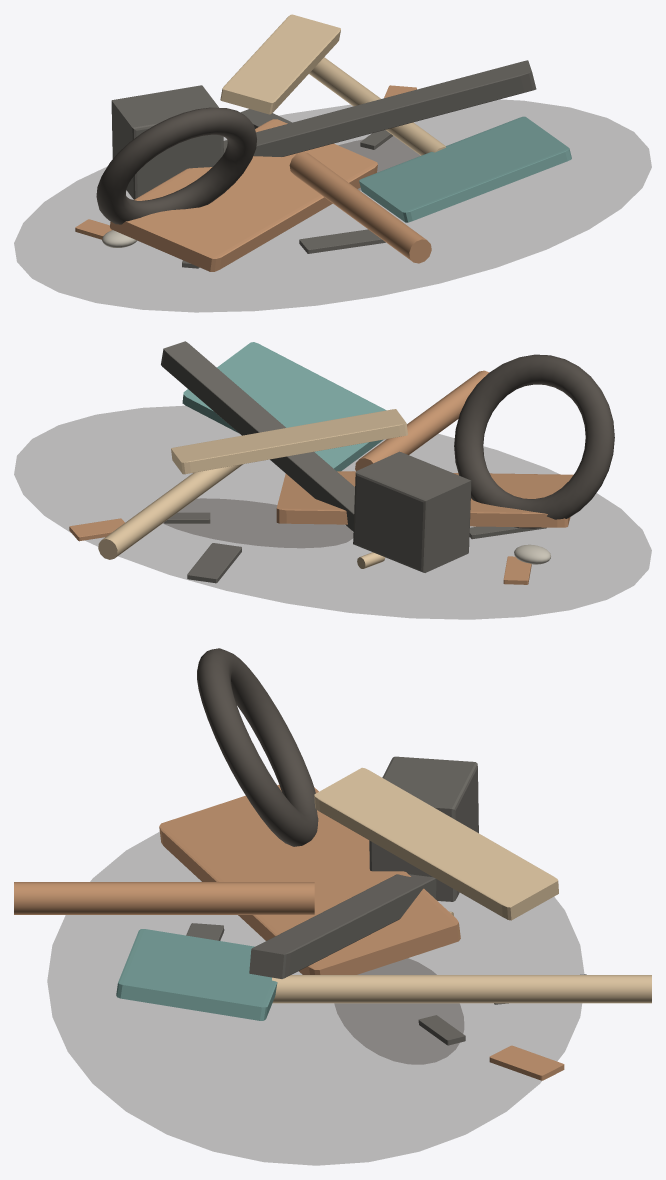
File: scrap_heap.glb
The picture shows the model from 3 angles, top to bottom: view 1: azimuth 30°, elevation 25°; view 2: azimuth 150°, elevation 25°; view 3: azimuth 270°, elevation 25°; orthographic projection. The views are drawn at different scales.
Parts seen in each view (by area): view 1: painted_contact_shadow, bent_door_skin, faded_green_panel, half_buried_tire, black_frame_rail, heavy_scrap_block, broken_light_plate, pipe_bundle_b, pipe_bundle_a, loose_scrap_flake_1, irregular_oil_stain_ground_detail, loose_scrap_flake_0; view 2: painted_contact_shadow, half_buried_tire, heavy_scrap_block, faded_green_panel, black_frame_rail, broken_light_plate, bent_door_skin, irregular_oil_stain_ground_detail, pipe_bundle_a, pipe_bundle_b, loose_scrap_flake_7, loose_scrap_flake_4 (+4 smaller); view 3: painted_contact_shadow, bent_door_skin, broken_light_plate, half_buried_tire, pipe_bundle_a, faded_green_panel, pipe_bundle_b, black_frame_rail, irregular_oil_stain_ground_detail, heavy_scrap_block, loose_scrap_flake_4, loose_scrap_flake_5.
Boxes of the visible parts, x1=… form: painted_contact_shadow: x1=14, y1=99, x2=651, y2=312; bent_door_skin: x1=110, y1=119, x2=377, y2=271; faded_green_panel: x1=359, y1=116, x2=571, y2=222; half_buried_tire: x1=96, y1=107, x2=256, y2=224; black_frame_rail: x1=223, y1=60, x2=536, y2=156; heavy_scrap_block: x1=111, y1=85, x2=223, y2=199; broken_light_plate: x1=220, y1=14, x2=340, y2=114; pipe_bundle_b: x1=289, y1=152, x2=431, y2=263; pipe_bundle_a: x1=309, y1=57, x2=445, y2=155; loose_scrap_flake_1: x1=299, y1=229, x2=385, y2=253; irregular_oil_stain_ground_detail: x1=339, y1=136, x2=419, y2=190; loose_scrap_flake_0: x1=75, y1=219, x2=111, y2=239; painted_contact_shadow: x1=14, y1=406, x2=651, y2=619; half_buried_tire: x1=454, y1=354, x2=614, y2=528; heavy_scrap_block: x1=353, y1=451, x2=471, y2=572; faded_green_panel: x1=182, y1=342, x2=386, y2=471; black_frame_rail: x1=161, y1=341, x2=354, y2=531; broken_light_plate: x1=171, y1=409, x2=407, y2=474; bent_door_skin: x1=276, y1=471, x2=573, y2=527; irregular_oil_stain_ground_detail: x1=163, y1=498, x2=352, y2=547; pipe_bundle_a: x1=98, y1=464, x2=243, y2=559; pipe_bundle_b: x1=355, y1=370, x2=489, y2=470; loose_scrap_flake_7: x1=187, y1=543, x2=241, y2=583; loose_scrap_flake_4: x1=69, y1=518, x2=124, y2=541; painted_contact_shadow: x1=47, y1=832, x2=583, y2=1165; bent_door_skin: x1=159, y1=785, x2=460, y2=974; broken_light_plate: x1=314, y1=767, x2=558, y2=920; half_buried_tire: x1=197, y1=648, x2=318, y2=846; pipe_bundle_a: x1=272, y1=975, x2=651, y2=1003; faded_green_panel: x1=116, y1=929, x2=277, y2=1020; pipe_bundle_b: x1=14, y1=882, x2=314, y2=914; black_frame_rail: x1=249, y1=874, x2=436, y2=978; irregular_oil_stain_ground_detail: x1=334, y1=958, x2=463, y2=1064; heavy_scrap_block: x1=369, y1=756, x2=478, y2=901; loose_scrap_flake_4: x1=489, y1=1045, x2=564, y2=1080; loose_scrap_flake_5: x1=418, y1=1015, x2=465, y2=1045.
Bounding box in the file's own units: 2.76 × 0.7367 × 2.02.
